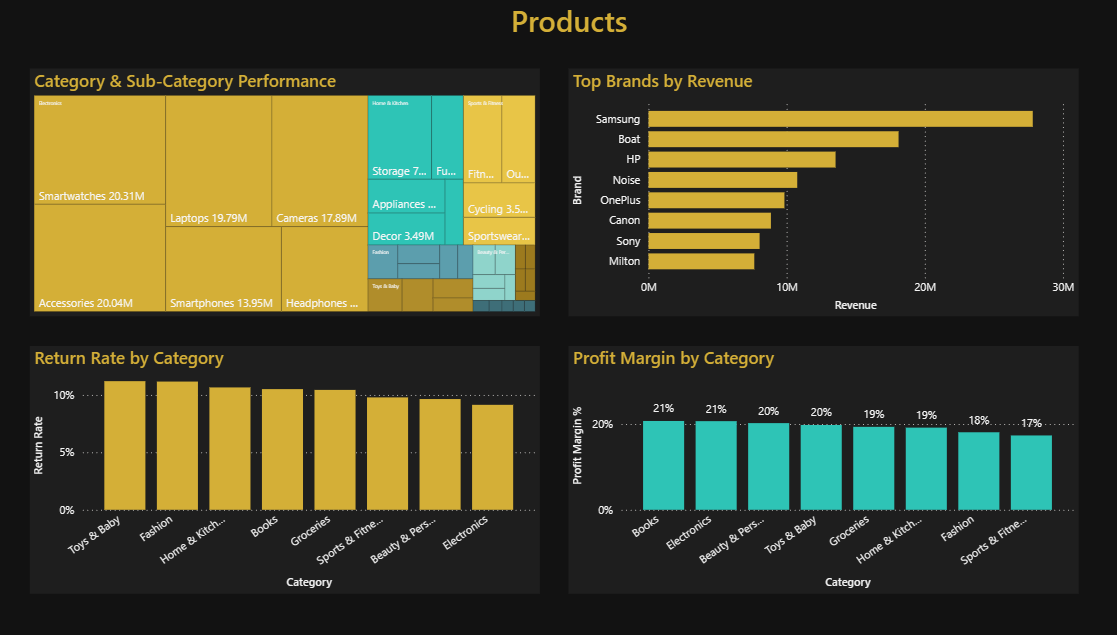

This screenshot's page, from the dashboard's own definition file:
{"tool":"powerbi","page":{"name":"Products","canvas":[1280,720],"ordinal":3},"visuals":[{"type":"textbox","box":[240,0,800,52],"z":0},{"type":"treemap","title":"Category & Sub-Category Performance","fields":{"Group":["Products.Category"],"Details":["Products.SubCategory"],"Values":["Measure_Tab.Revenue"]},"box":[48,80,560,272],"z":1000},{"type":"clusteredBarChart","title":"Top Brands by Revenue","fields":{"Category":["Products.Brand"],"Y":["Measure_Tab.Revenue"]},"box":[640,80,560,272],"z":2000},{"type":"clusteredColumnChart","fields":{"Category":["Products.Category"],"Y":["Measure_Tab.Return Rate"]},"box":[48,384,560,272],"z":3000},{"type":"clusteredColumnChart","title":"Profit Margin by Category","fields":{"Category":["Products.Category"],"Y":["Measure_Tab.Profit Margin %"]},"box":[640,384,560,272],"z":4000}]}

Visuals, with their boxes in screenshot pixels (x1, y1, x2, y2), scaled from the page's 1280x720 canvas onto the 1117x635 screenshot:
textbox: (209, 0, 908, 46)
"Category & Sub-Category Performance" treemap: (42, 71, 531, 310)
"Top Brands by Revenue" clusteredBarChart: (558, 71, 1047, 310)
clusteredColumnChart - Products.Category x Measure_Tab.Return Rate: (42, 339, 531, 579)
"Profit Margin by Category" clusteredColumnChart: (558, 339, 1047, 579)
